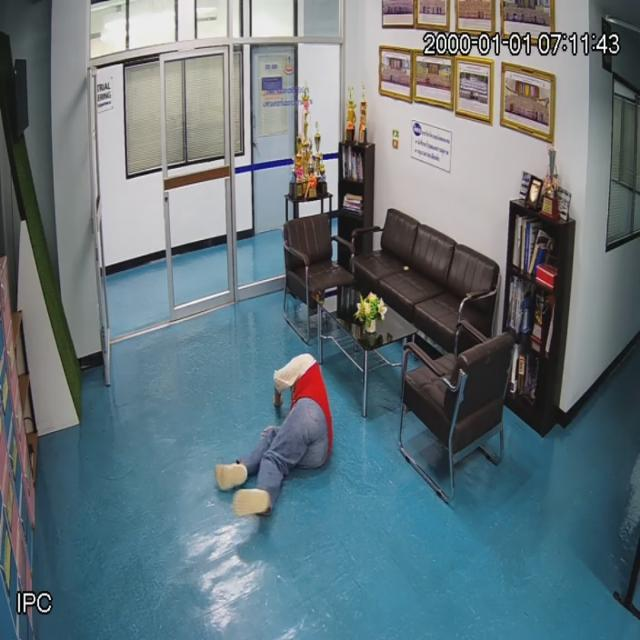fall: (214, 355, 335, 520)
